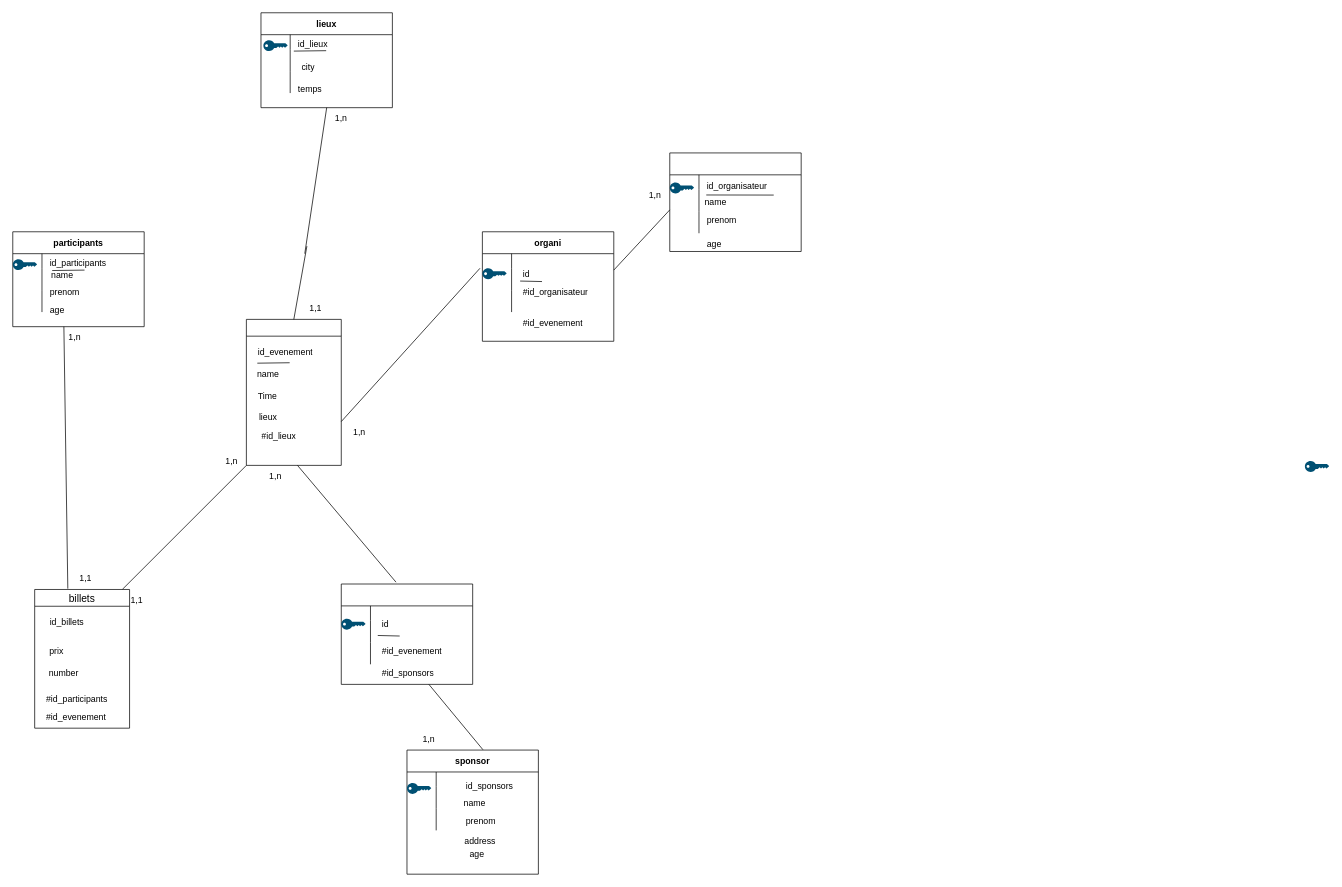
Image size: 1342x887. Some labels were removed from this diagram. Each missing label, with the box of its shape:
organisateurs: (669, 152, 801, 251)
sponsorisation: (341, 583, 473, 684)
événements: (246, 319, 341, 465)
